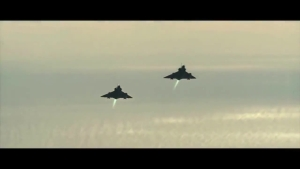flight: (100, 84, 133, 101), (163, 64, 196, 80)
